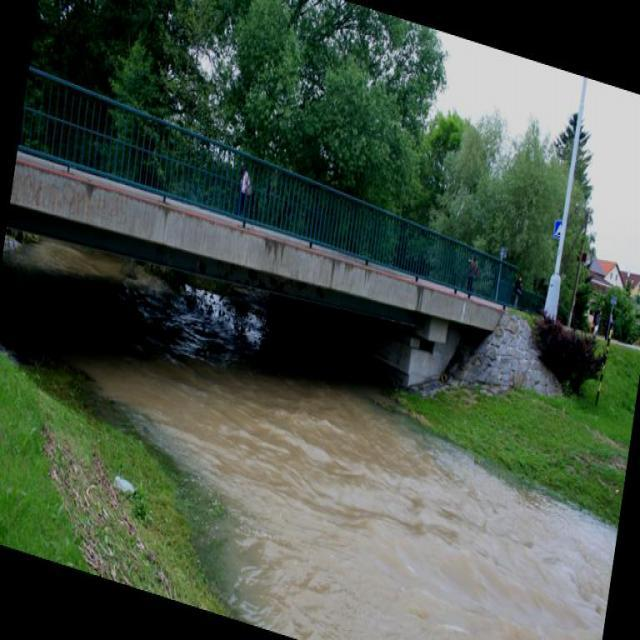flood: (0, 231, 633, 638)
